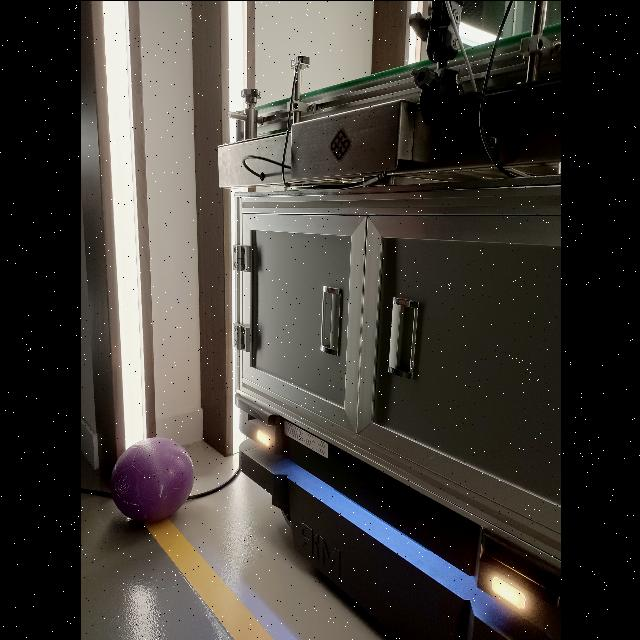P: (109, 436, 193, 524)
